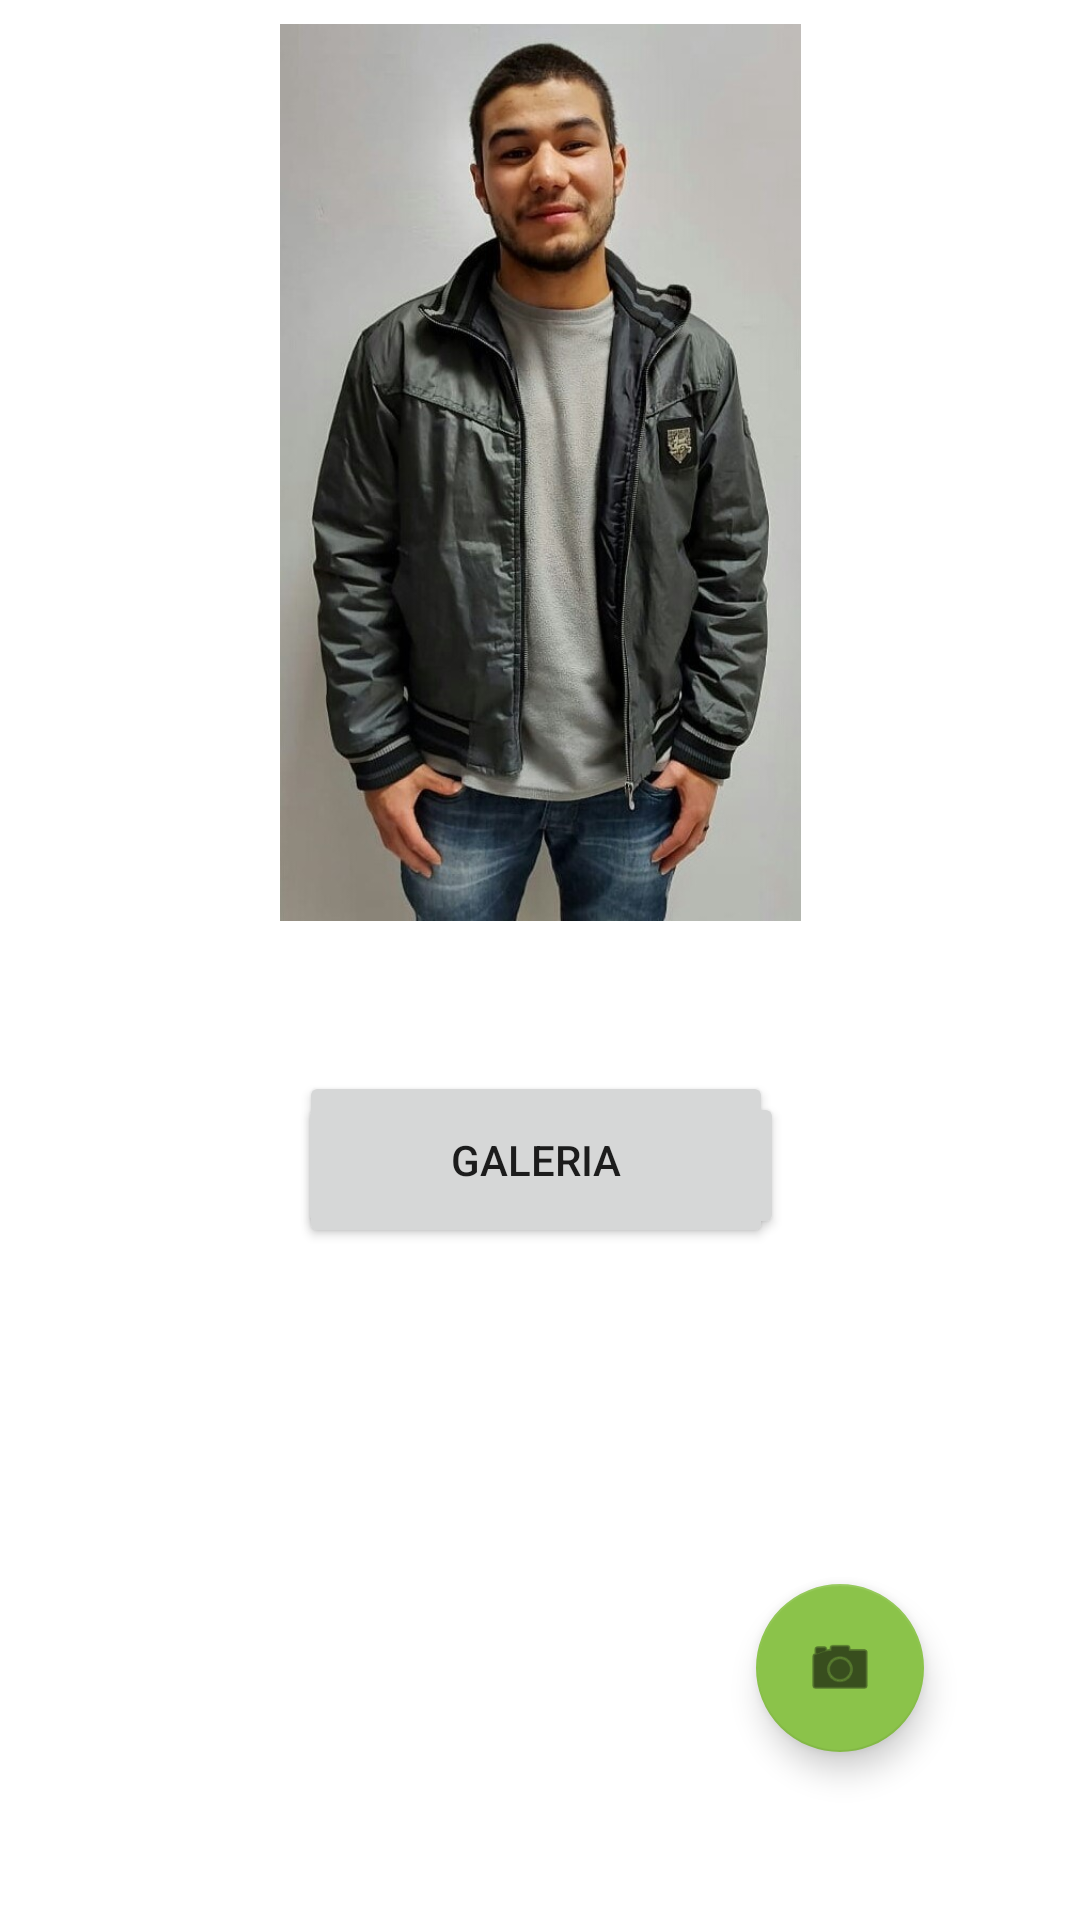

Screen size 1080px x 1920px. Icon name, then its box in pixels as [x1, y1, x2, y2]:
camera: [756, 1584, 924, 1752]
